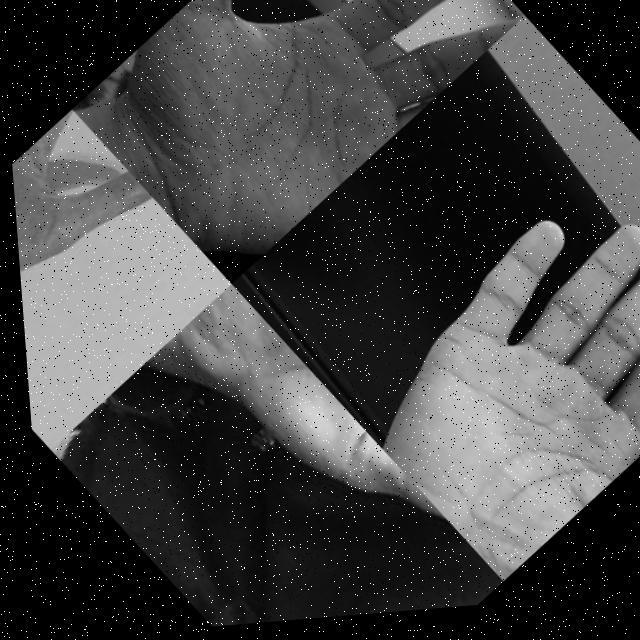no-gloves: (69, 274, 462, 636), (319, 160, 640, 598), (84, 0, 538, 280), (6, 105, 166, 368)
